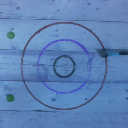Axe Tip: (96, 50, 108, 52)
